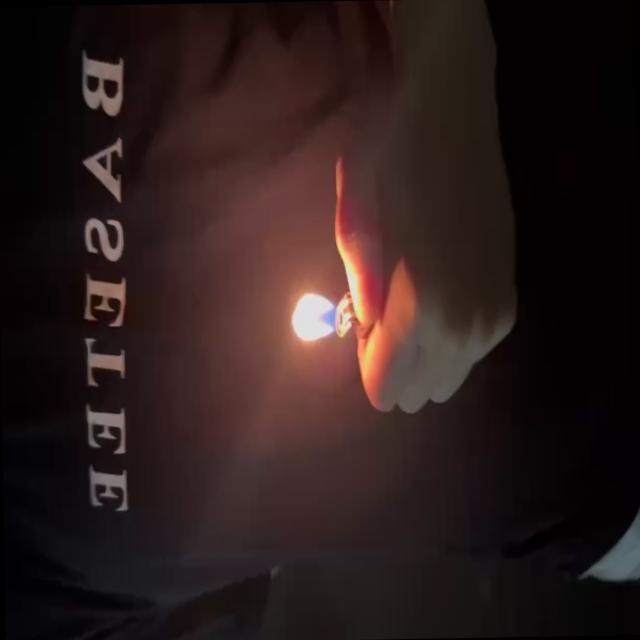Fire: (290, 289, 341, 344)
